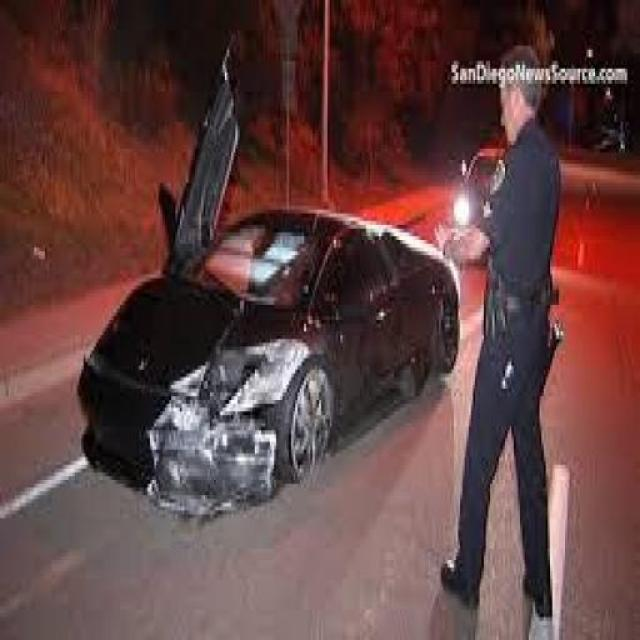crush: (146, 323, 342, 512)
